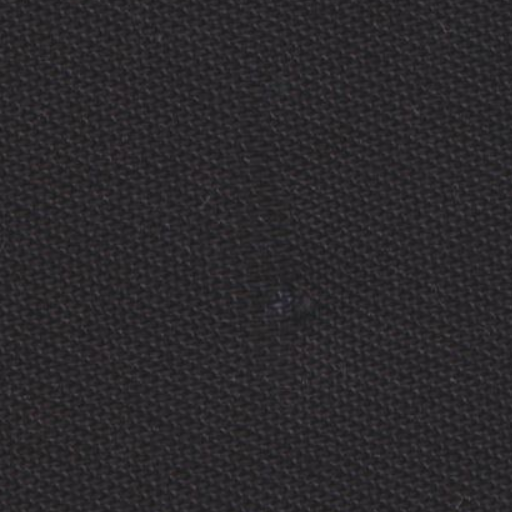PoDong: (253, 263, 320, 335)
